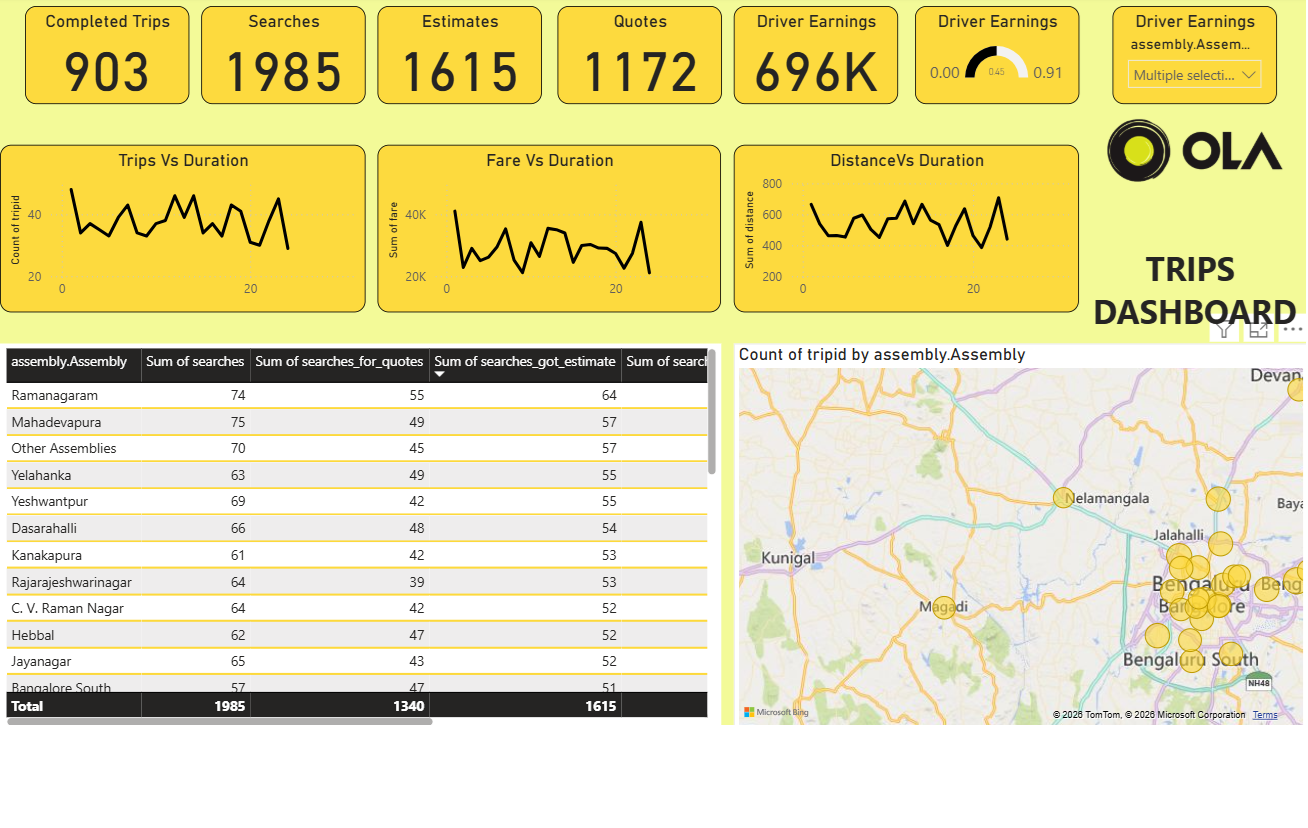

The dashboard page shown, as its layout file describes it:
{"tool":"powerbi","page":{"name":"Page 1","canvas":[1280,720],"ordinal":0},"visuals":[{"type":"card","title":"Completed Trips","fields":{"Values":["Sum(trip_details.end_ride)"]},"box":[23.9,9.8,160.5,95.8],"z":0},{"type":"card","title":"Searches","fields":{"Values":["Sum(trip_details.searches)"]},"box":[196.8,9.8,160.5,95.8],"z":1000},{"type":"card","title":"Driver Earnings","fields":{"Values":["Sum(trips.fare)"]},"box":[718.2,9.8,160.5,95.8],"z":2000},{"type":"card","title":"Quotes","fields":{"Values":["Sum(trip_details.searches_got_quotes)"]},"box":[545.3,9.8,160.5,95.8],"z":3000},{"type":"card","title":"Estimates","fields":{"Values":["Sum(trip_details.searches_got_estimate)"]},"box":[369.8,9.8,160.5,95.8],"z":4000},{"type":"gauge","title":"Driver Earnings","fields":{"Y":["trip_details.conversion_rate"]},"box":[895.6,9.8,160.5,95.8],"z":5000},{"type":"lineChart","title":"Trips Vs Duration","fields":{"Y":["CountNonNull(trips.tripid)"],"Category":["trips.duration"]},"box":[0,145.4,357.3,164],"z":6000},{"type":"lineChart","title":"Fare Vs Duration","fields":{"Y":["Sum(trips.fare)"],"Category":["trips.duration"]},"box":[369.8,145.4,336.1,164],"z":7000},{"type":"lineChart","title":"DistanceVs Duration","fields":{"Y":["Sum(trips.distance)"],"Category":["trips.duration"]},"box":[718.2,145.4,337.8,164],"z":8000},{"type":"tableEx","fields":{"Values":["Merge2.assembly.Assembly","Sum(Merge2.searches)","Sum(Merge2.searches_for_quotes)","Sum(Merge2.searches_got_estimate)","Sum(Merge2.searches_got_quotes)","Sum(Merge2.trips.fare)","Sum(Merge2.trips.distance)","trip_details.conversion_rate"]},"box":[0,340.5,705.8,379.5],"z":9000},{"type":"map","fields":{"Category":["Merge2.assembly.Assembly"],"Size":["CountNonNull(Merge2.tripid)"]},"box":[718.2,339.6,562.2,380.4],"z":10000},{"type":"image","box":[1078.2,57.6,180.9,187.1],"z":11000},{"type":"textbox","box":[1056.1,239.4,224.3,100.2],"z":12000},{"type":"slicer","title":"Driver Earnings","fields":{"Values":["Merge2.assembly.Assembly"]},"box":[1088,9.8,160.5,95.8],"z":13000}]}

Visuals, with their boxes on the page's 1280x720 design canvas (x1, y1, x2, y2). These are canvas units, not pixel positions in the 1308x828 screenshot, which may show the page scaled, cropped or inside an application window:
"Completed Trips" card: rect(24, 10, 184, 106)
"Searches" card: rect(197, 10, 357, 106)
"Driver Earnings" card: rect(718, 10, 879, 106)
"Quotes" card: rect(545, 10, 706, 106)
"Estimates" card: rect(370, 10, 530, 106)
"Driver Earnings" gauge: rect(896, 10, 1056, 106)
"Trips Vs Duration" lineChart: rect(0, 145, 357, 309)
"Fare Vs Duration" lineChart: rect(370, 145, 706, 309)
"DistanceVs Duration" lineChart: rect(718, 145, 1056, 309)
tableEx - Merge2.assembly.Assembly x Sum(Merge2.searches): rect(0, 340, 706, 720)
map - Merge2.assembly.Assembly x CountNonNull(Merge2.tripid): rect(718, 340, 1280, 720)
image: rect(1078, 58, 1259, 245)
textbox: rect(1056, 239, 1280, 340)
"Driver Earnings" slicer: rect(1088, 10, 1248, 106)
